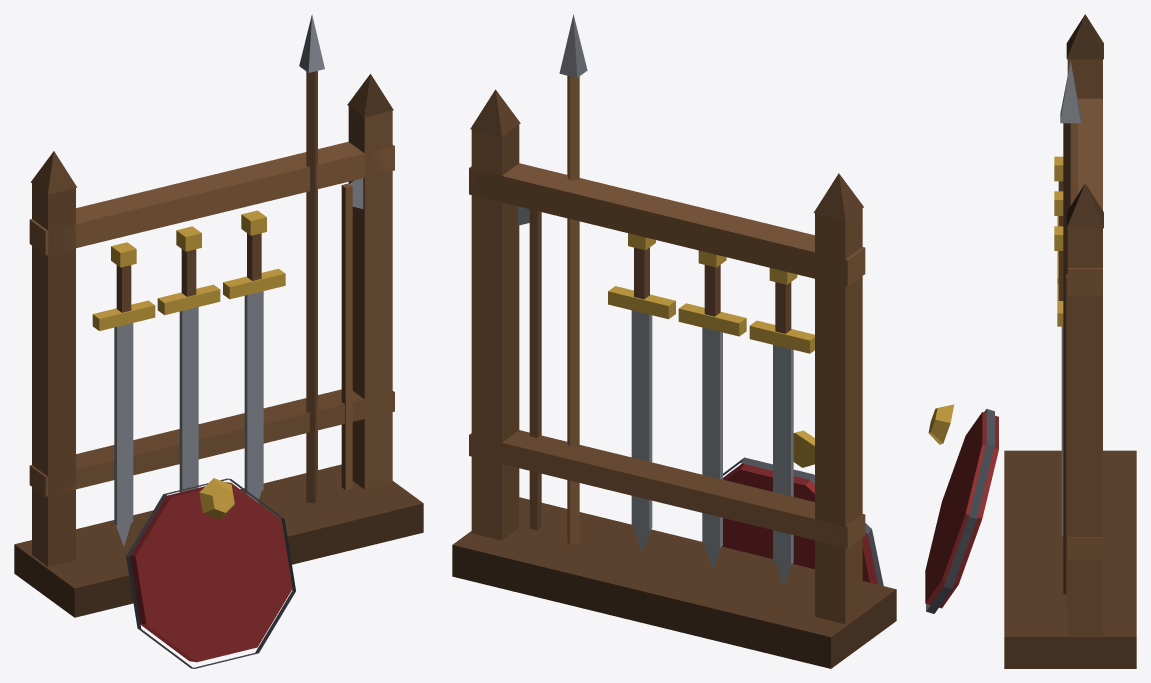
Rendered from weapon_rack.glb.
3 renders of one model, left to right at view 1: azimuth 30°, elevation 25°; view 2: azimuth 150°, elevation 25°; view 3: azimuth 270°, elevation 25°, orthographic. The views are drawn at different scales.
Parts seen in each view (by area): view 1: weapon_rack; view 2: weapon_rack; view 3: weapon_rack.
Part boxes in pixels (box(x1,y1,x2,y2)): weapon_rack: box(14, 14, 423, 668); weapon_rack: box(452, 14, 896, 668); weapon_rack: box(925, 14, 1136, 668).
Bounding box in the file's own units: 1.5 × 2.32 × 0.7191.
